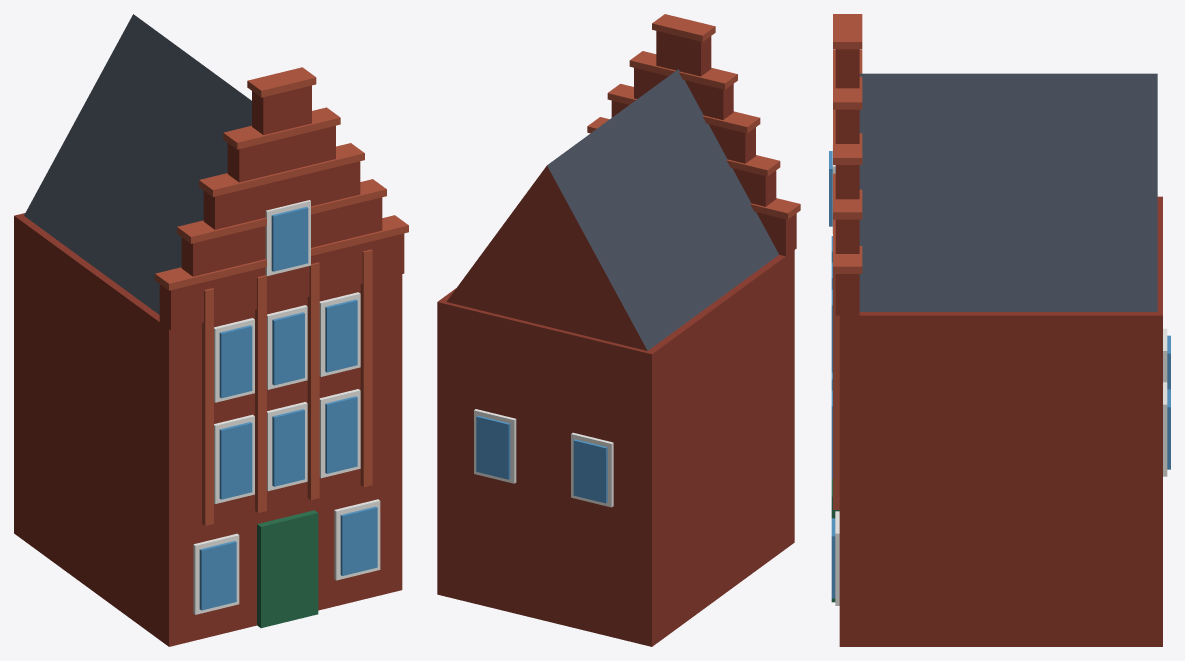
Rendered from 34_brick_gothic_1.obj.
3 views of the same model, side by side, from view 1: azimuth 30°, elevation 25°; view 2: azimuth 150°, elevation 25°; view 3: azimuth 270°, elevation 25° (orthographic). The views are drawn at different scales.
Visible parts, largest first — view 1: 34_brick_gothic_1; view 2: 34_brick_gothic_1; view 3: 34_brick_gothic_1.
Part boxes in pixels (x1,y1,x2,y2): 34_brick_gothic_1: (14, 14, 408, 646); 34_brick_gothic_1: (437, 14, 800, 646); 34_brick_gothic_1: (829, 14, 1170, 646).
Size of the model in its own units: 1.09 by 2.33 by 1.29.
